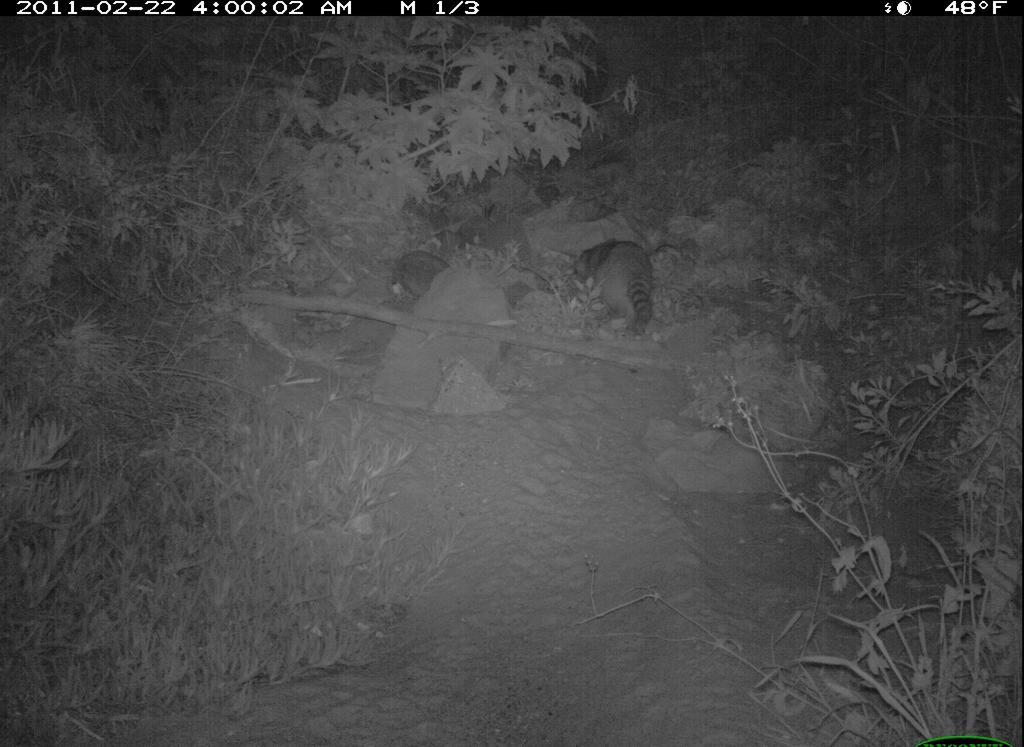raccoon: (552, 228, 685, 341)
